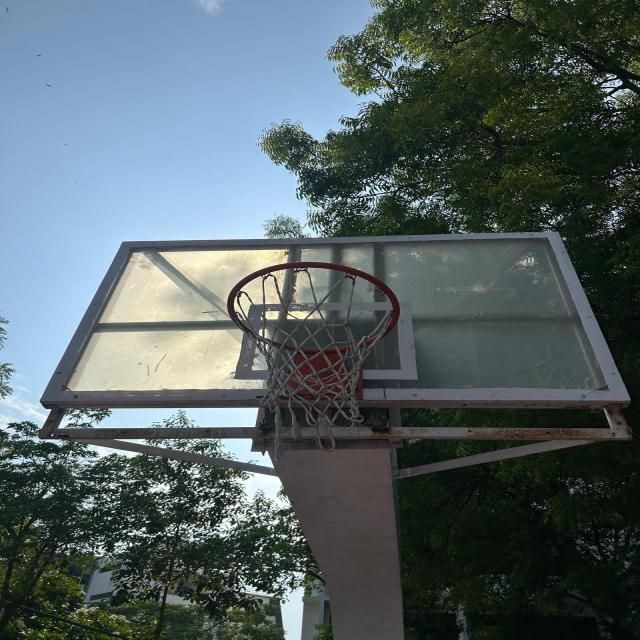hoop: (186, 255, 446, 452)
